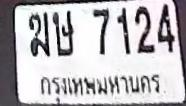1: (116, 6, 130, 54)
2: (134, 5, 154, 53)
4: (157, 2, 174, 52)
7: (91, 7, 109, 54)
A06: (28, 11, 50, 56)
A39: (52, 9, 74, 56)
BKK: (37, 72, 163, 105)
